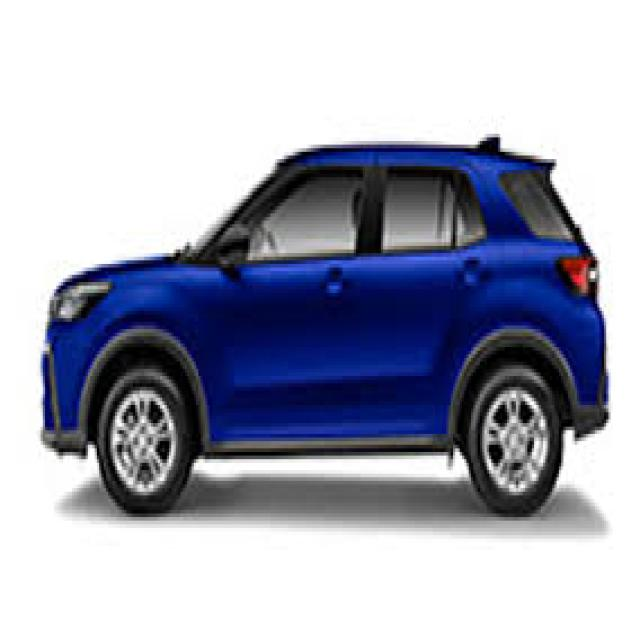PeroduaAtiva: (38, 130, 611, 517)
